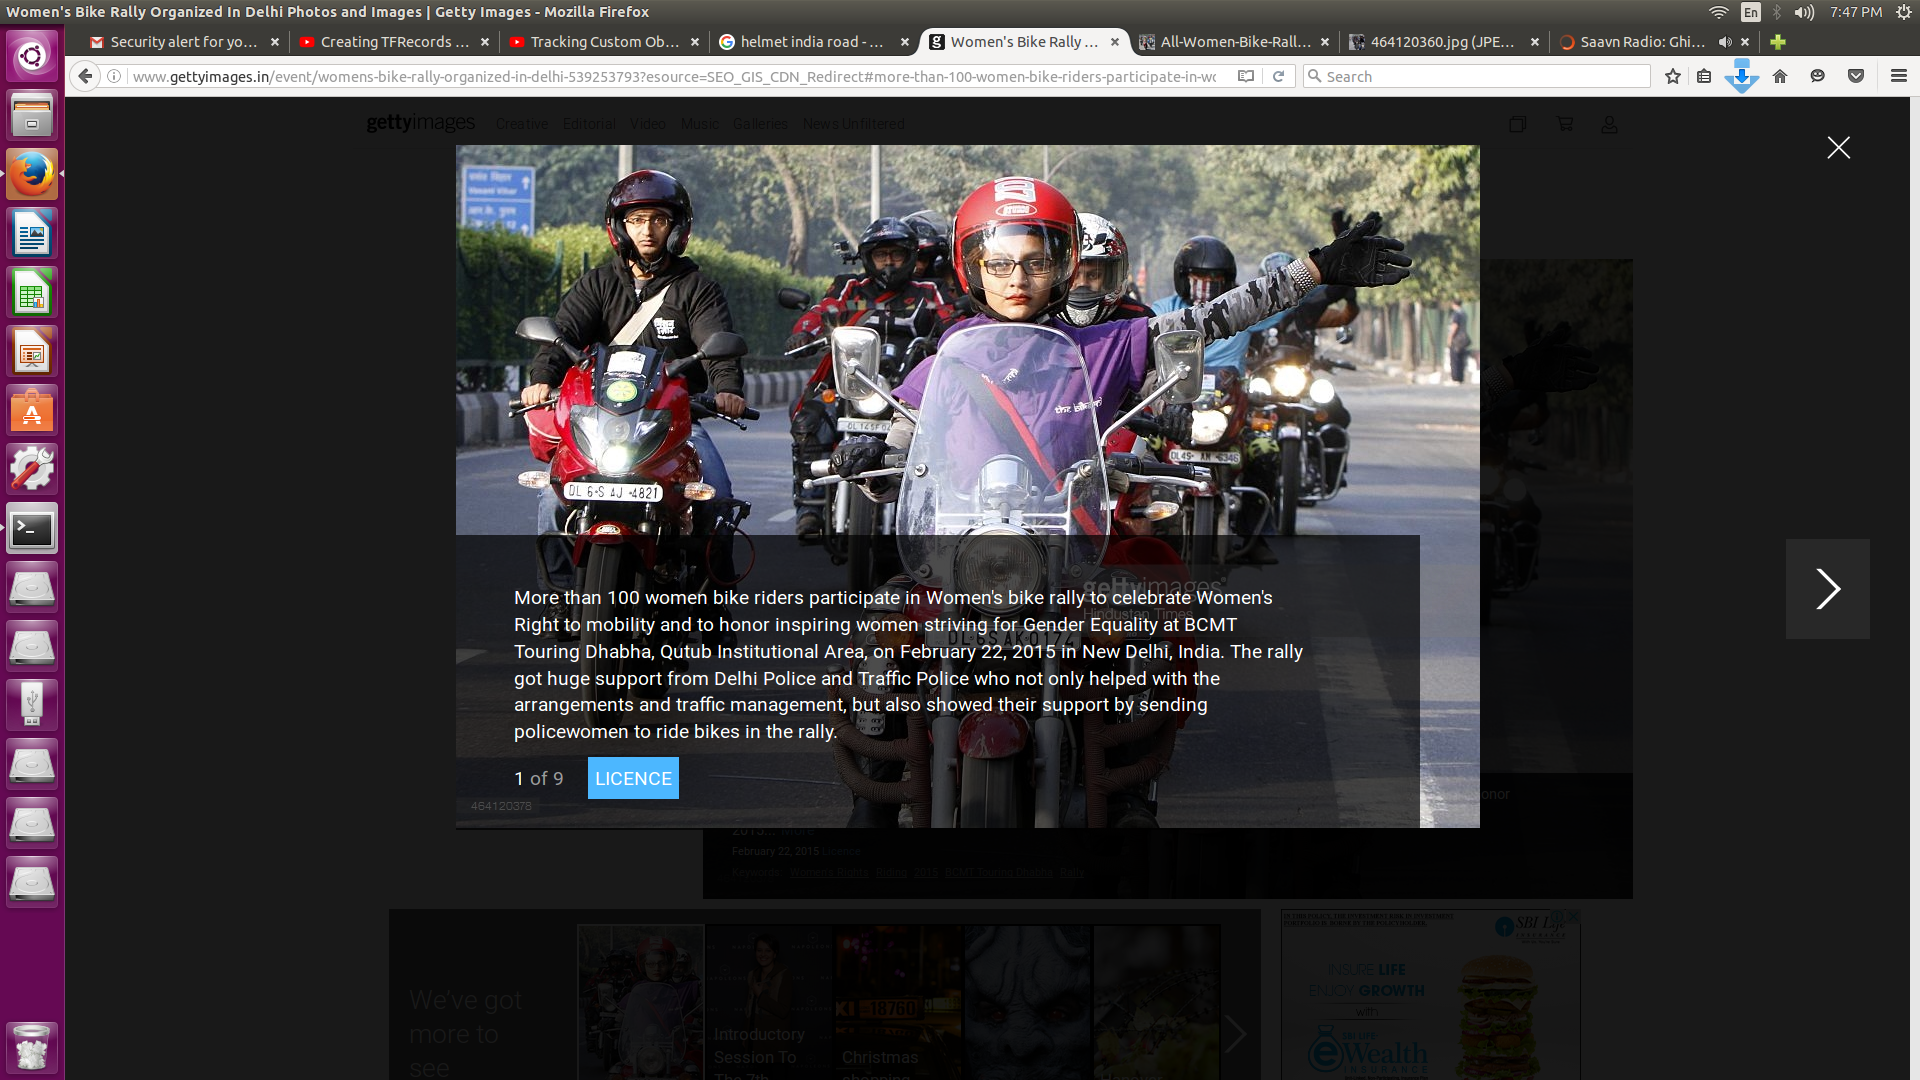helmet: (942, 183, 1079, 298), (607, 161, 691, 261)
